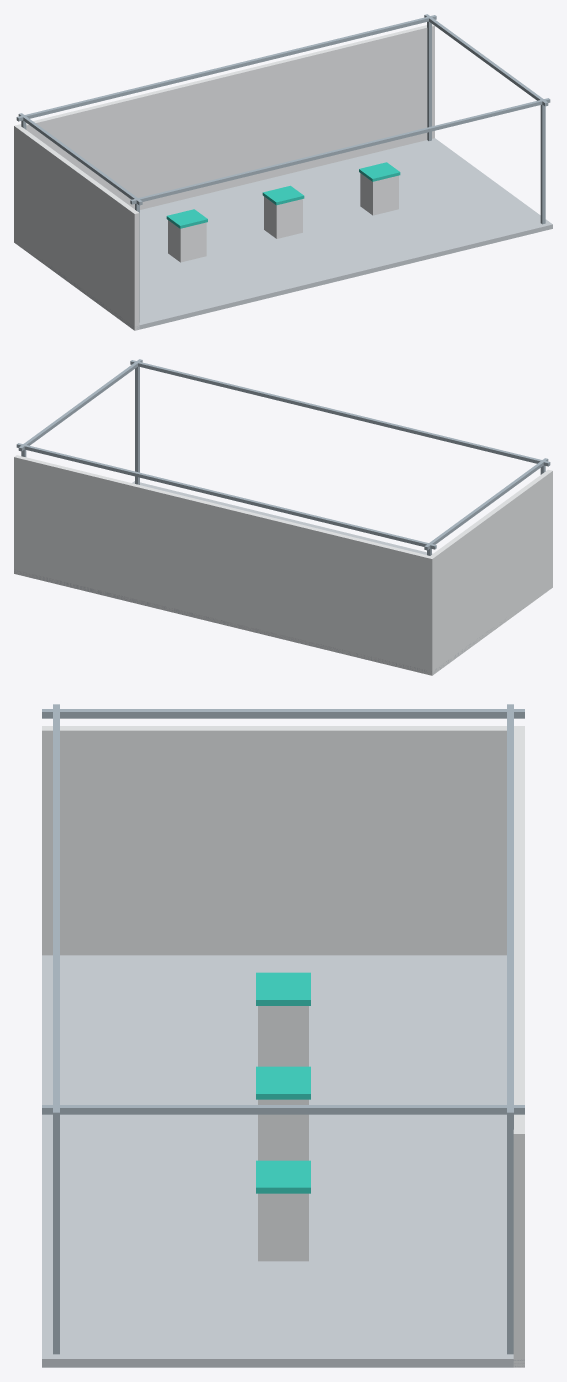
The picture shows the model from 3 angles, top to bottom: view 1: azimuth 30°, elevation 25°; view 2: azimuth 150°, elevation 25°; view 3: azimuth 270°, elevation 25°; orthographic projection. The views are drawn at different scales.
Visible parts, largest first — view 1: Exhibition Booth Concept; view 2: Exhibition Booth Concept; view 3: Exhibition Booth Concept.
Boxes of the visible parts, x1,y1,x2,y2 form: Exhibition Booth Concept: (14,14,552,330); Exhibition Booth Concept: (14,359,552,675); Exhibition Booth Concept: (42,704,524,1367).
Bounding box in the file's own units: 12 × 3.49 × 6.
